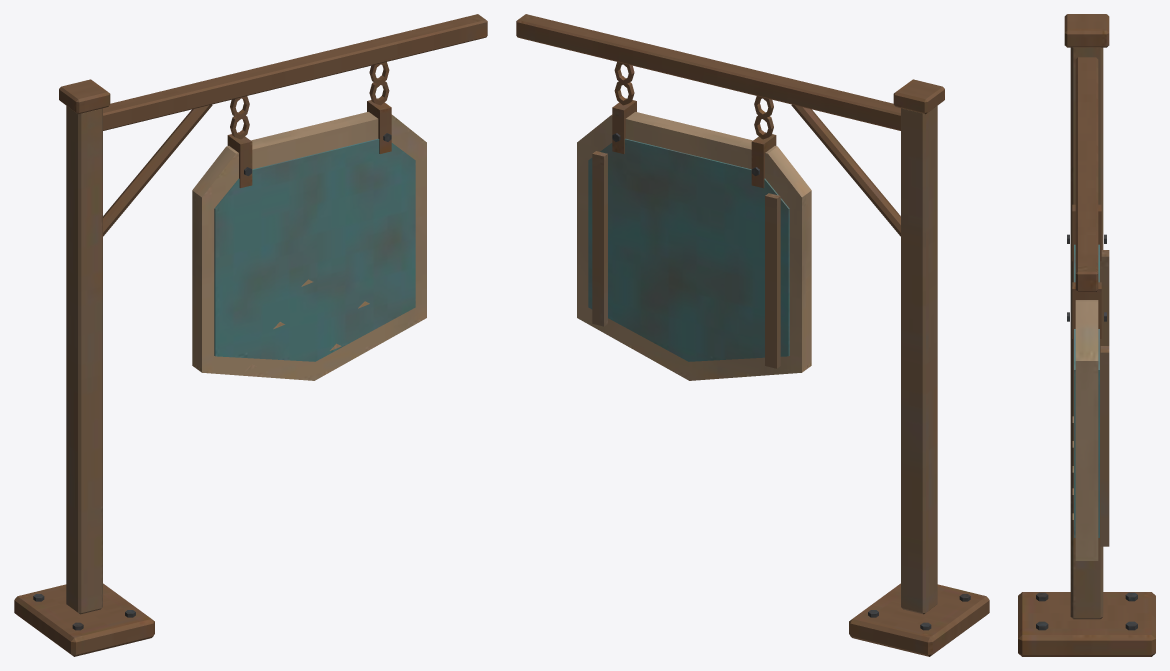
The model's file is W15_blank_shop_signboard_v2.glb.
3 views of the same model, side by side, from view 1: azimuth 30°, elevation 25°; view 2: azimuth 150°, elevation 25°; view 3: azimuth 270°, elevation 25° (orthographic). The views are drawn at different scales.
Visible parts, largest first — view 1: Foot plate; view 2: Foot plate; view 3: Foot plate.
Boxes of the visible parts, left/top/right/bottom form: Foot plate: left=14, top=14, right=487, bottom=656; Foot plate: left=516, top=14, right=989, bottom=656; Foot plate: left=1018, top=14, right=1155, bottom=656.
Bounding box in the file's own units: 1.72 × 2 × 0.4076.
5 materials, 5 textured.
